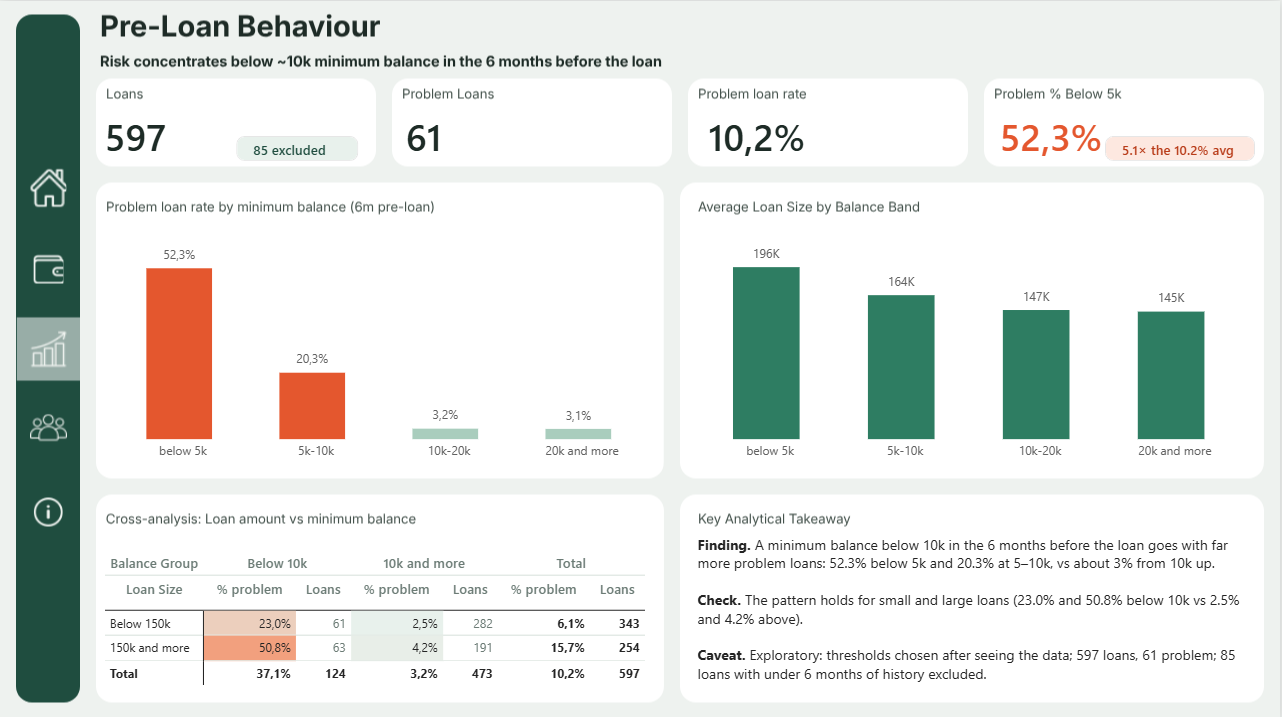

What the dashboard file says about the page in this screenshot:
{"tool":"powerbi","page":{"name":"Pre-Loan Behaviour","canvas":[1280,720],"ordinal":2},"visuals":[{"type":"clusteredColumnChart","fields":{"Category":["loan_analysis.min_balance_band_clean"],"Y":["_Measures.Problem Loan %"]},"box":[103.8,218.8,557.5,260],"z":0},{"type":"pivotTable","fields":{"Columns":["loan_analysis.Balance Group"],"Rows":["loan_analysis.Loan Size Group"],"Values":["_Measures.Problem Loan %","_Measures.Loans"]},"box":[88.8,533.8,573.6,174.9],"z":1000},{"type":"cardVisual","fields":{"Data":["_Measures.Loans"]},"box":[88.8,110,260,50],"z":2000},{"type":"tableEx","fields":{"Values":["loan_analysis.status","_Measures.Loans","_Measures.Avg Min Balance","_Measures.Avg Inflow/Outflow Ratio"]},"box":[10.5,734.4,490.1,247.3],"z":3000},{"type":"cardVisual","fields":{"Data":["_Measures.Problem Loans"]},"box":[390.6,110,260,50],"z":4000},{"type":"cardVisual","fields":{"Data":["_Measures.Problem Loan %"]},"box":[692.4,110,260,50],"z":5000},{"type":"cardVisual","fields":{"Data":["_Measures.Problem % Below 5k"]},"box":[983.8,110,260,50],"z":6000},{"type":"clusteredColumnChart","fields":{"Category":["loan_analysis.min_balance_band_clean"],"Y":["_Measures.Avg Loan Amount"]},"box":[690,218.3,565,260],"z":7000},{"type":"textbox","box":[697.5,533.8,546.2,160],"z":8000},{"type":"cardVisual","fields":{"Data":["_MeasuresCard.Chip Excluded"]},"box":[236.2,135,122.5,25],"z":9000},{"type":"cardVisual","fields":{"Data":["_MeasuresCard.Chip Ratio"]},"box":[1105,135,150,25],"z":10000},{"type":"actionButton","box":[20,400,56.2,55],"z":11000},{"type":"actionButton","box":[22.5,482.5,52.5,57.5],"z":12000},{"type":"actionButton","box":[20,160,53.8,55],"z":13000},{"type":"actionButton","box":[22.5,240,53.8,55],"z":14000}]}

Visuals, with their boxes in screenshot pixels (x1, y1, x2, y2), scaled from the page's 1280x720 canvas onto the 1282x717 screenshot:
clusteredColumnChart - loan_analysis.min_balance_band_clean x _Measures.Problem Loan %: region(104, 218, 662, 477)
pivotTable - loan_analysis.Balance Group x loan_analysis.Loan Size Group: region(89, 532, 663, 706)
cardVisual - _Measures.Loans: region(89, 110, 349, 159)
cardVisual - _Measures.Problem Loans: region(391, 110, 652, 159)
cardVisual - _Measures.Problem Loan %: region(693, 110, 954, 159)
cardVisual - _Measures.Problem % Below 5k: region(985, 110, 1246, 159)
clusteredColumnChart - loan_analysis.min_balance_band_clean x _Measures.Avg Loan Amount: region(691, 217, 1257, 476)
textbox: region(699, 532, 1246, 691)
cardVisual - _MeasuresCard.Chip Excluded: region(237, 134, 359, 159)
cardVisual - _MeasuresCard.Chip Ratio: region(1107, 134, 1257, 159)
actionButton: region(20, 398, 76, 453)
actionButton: region(23, 480, 75, 538)
actionButton: region(20, 159, 74, 214)
actionButton: region(23, 239, 76, 294)
